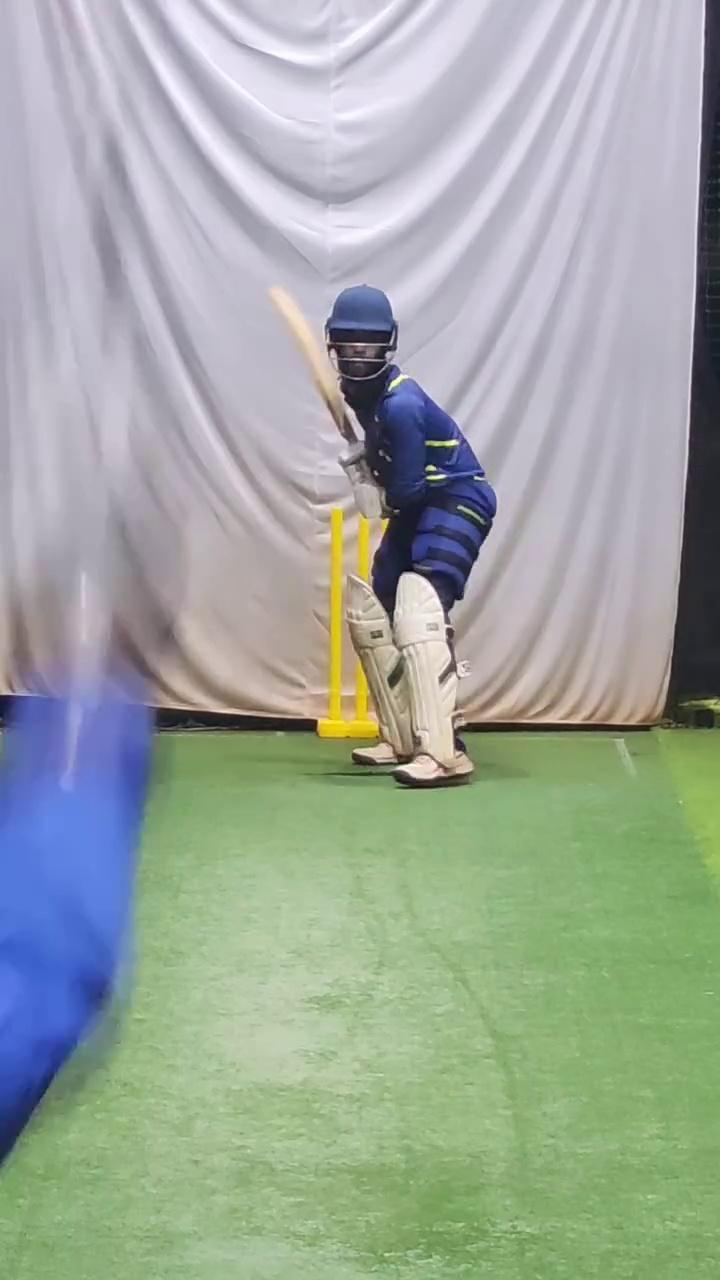bat: (265, 281, 356, 445)
